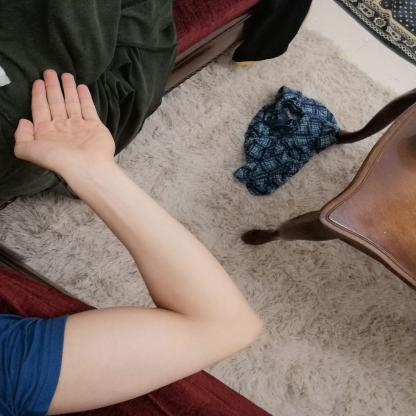SEEN: (6, 63, 124, 180)
